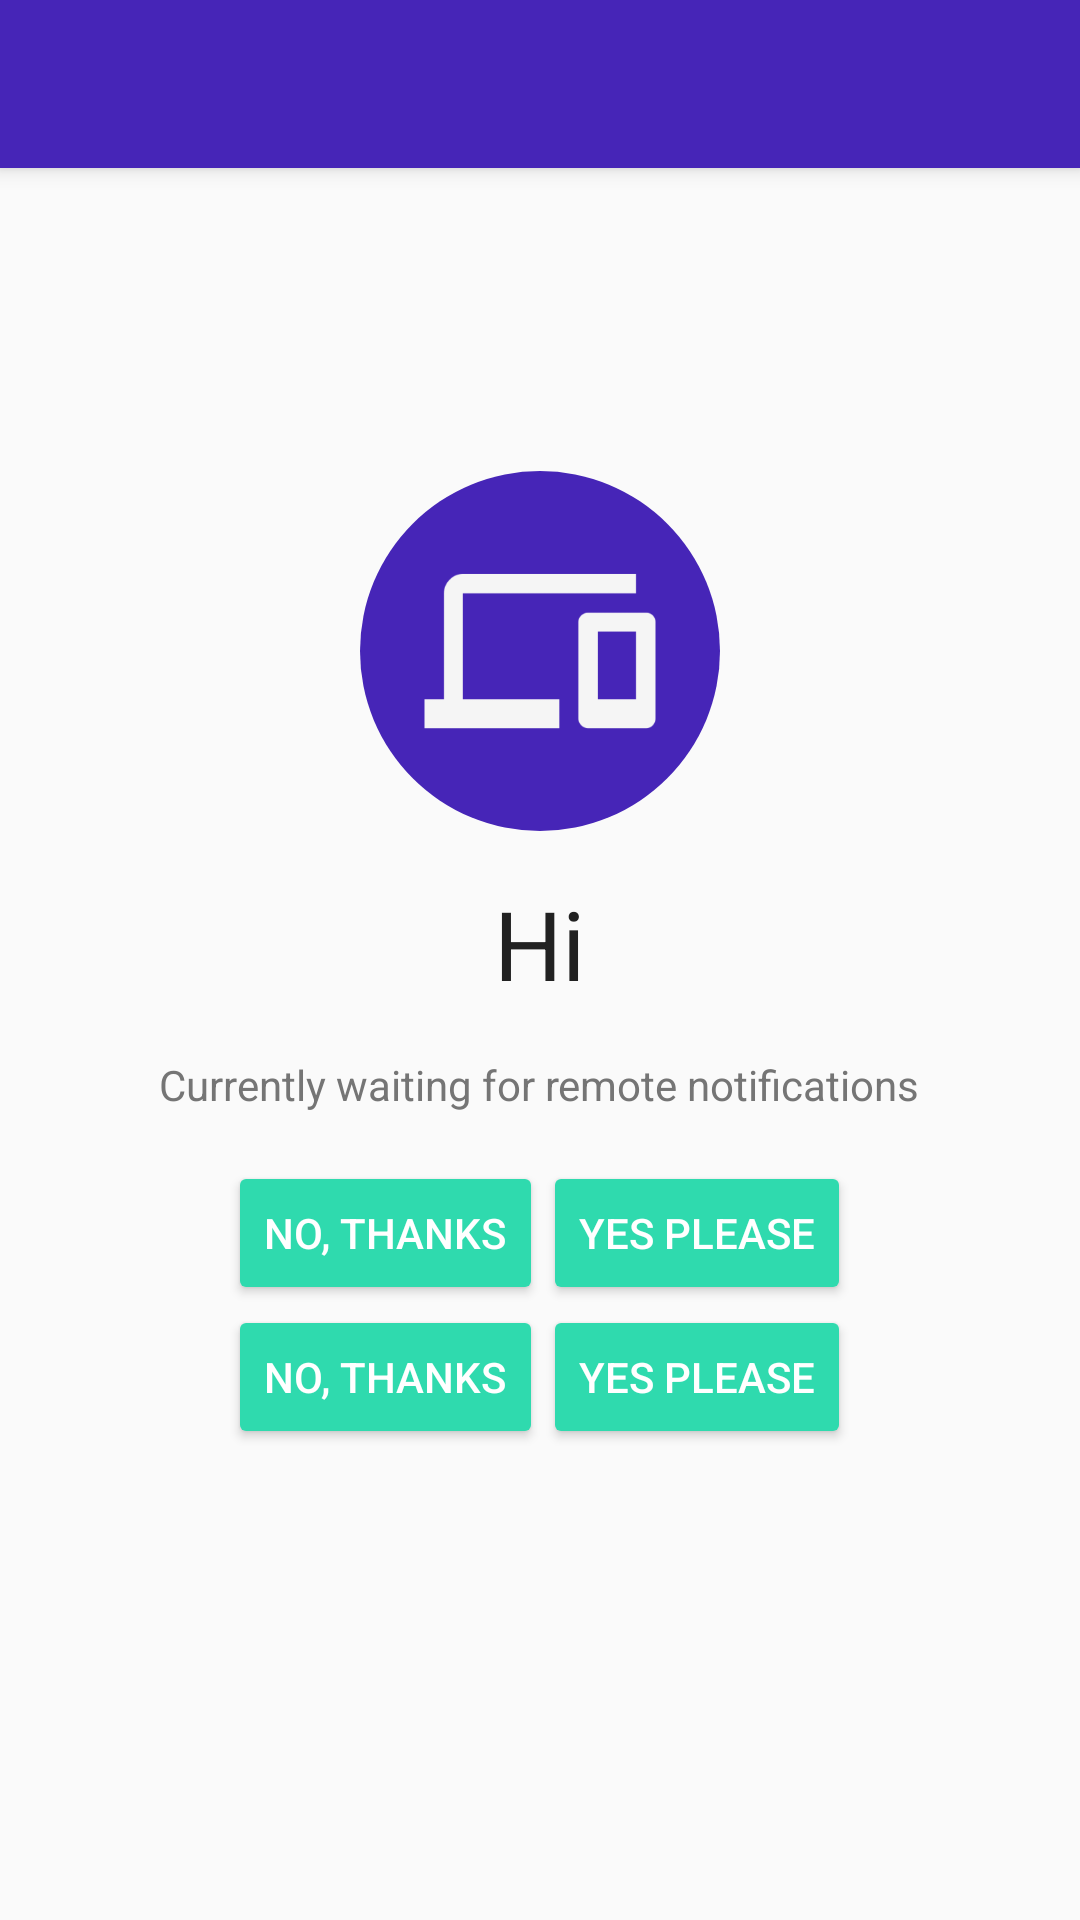

Screen size 1080 × 1920. Icon name, then its center in pixels as point (x, y):
remote login: point (540, 651)
